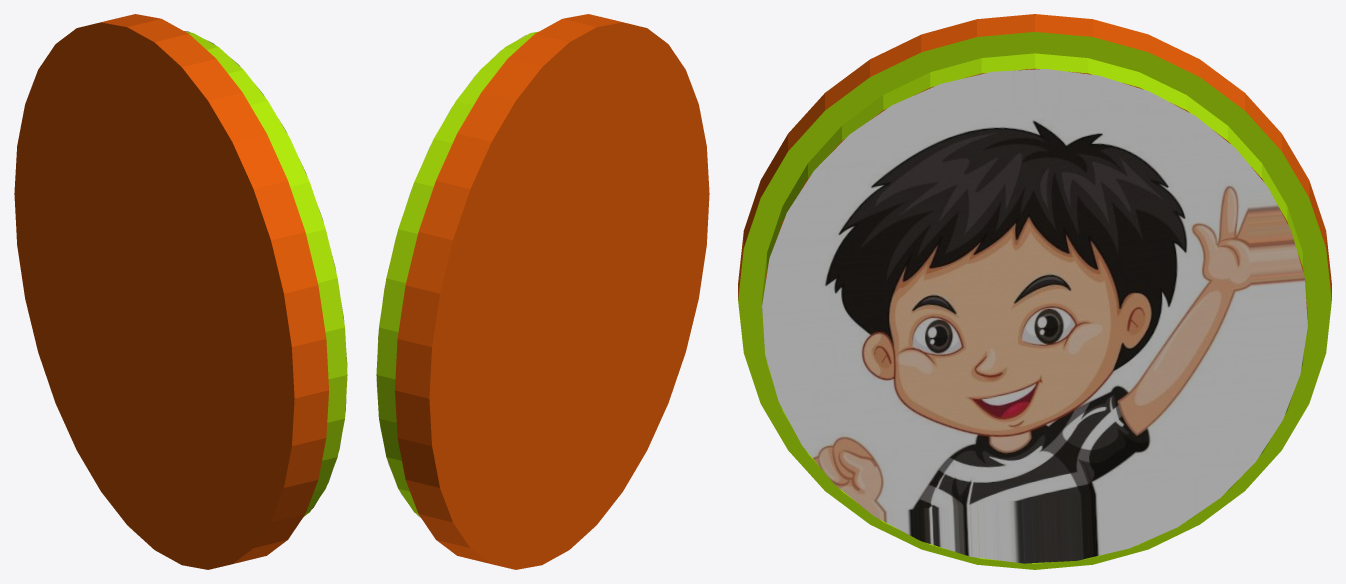
Rendered from boy 2.gltf.
3 views of the same model, side by side, from view 1: azimuth 30°, elevation 25°; view 2: azimuth 150°, elevation 25°; view 3: azimuth 270°, elevation 25° (orthographic). The views are drawn at different scales.
Visible parts, largest first — view 1: Cylinder.008, Cylinder.009; view 2: Cylinder.008, Cylinder.009; view 3: Cylinder.019, Cylinder.009, Cylinder.008.
Boxes of the visible parts, bbox=[...] form: Cylinder.008: bbox=[14, 14, 328, 569]; Cylinder.009: bbox=[185, 31, 347, 516]; Cylinder.008: bbox=[395, 14, 709, 569]; Cylinder.009: bbox=[376, 31, 538, 516]; Cylinder.019: bbox=[762, 69, 1307, 563]; Cylinder.009: bbox=[738, 32, 1331, 569]; Cylinder.008: bbox=[738, 14, 1331, 309].
Size of the model in its own units: 0.8839 by 6.68 by 6.68.
Materials: 3 (1 with a texture image).
